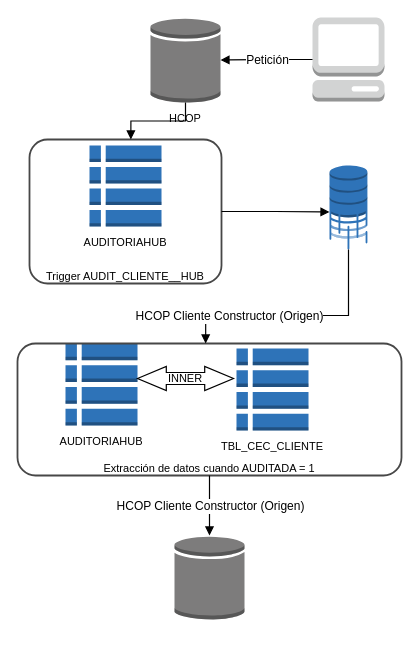
This 420x660 diagram has some shape labels left out. The centre of each missing label's shape, as x and y in pixels:
"Cliente" goes at (x=348, y=59).
"HUB" goes at (x=209, y=577).
"HUBDATOS migration workflow/job" goes at (x=348, y=207).
